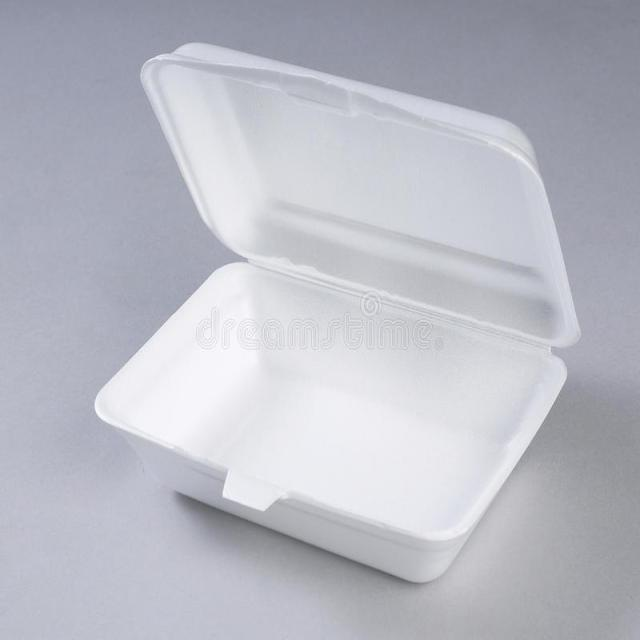styrofoam: (92, 39, 582, 585)
